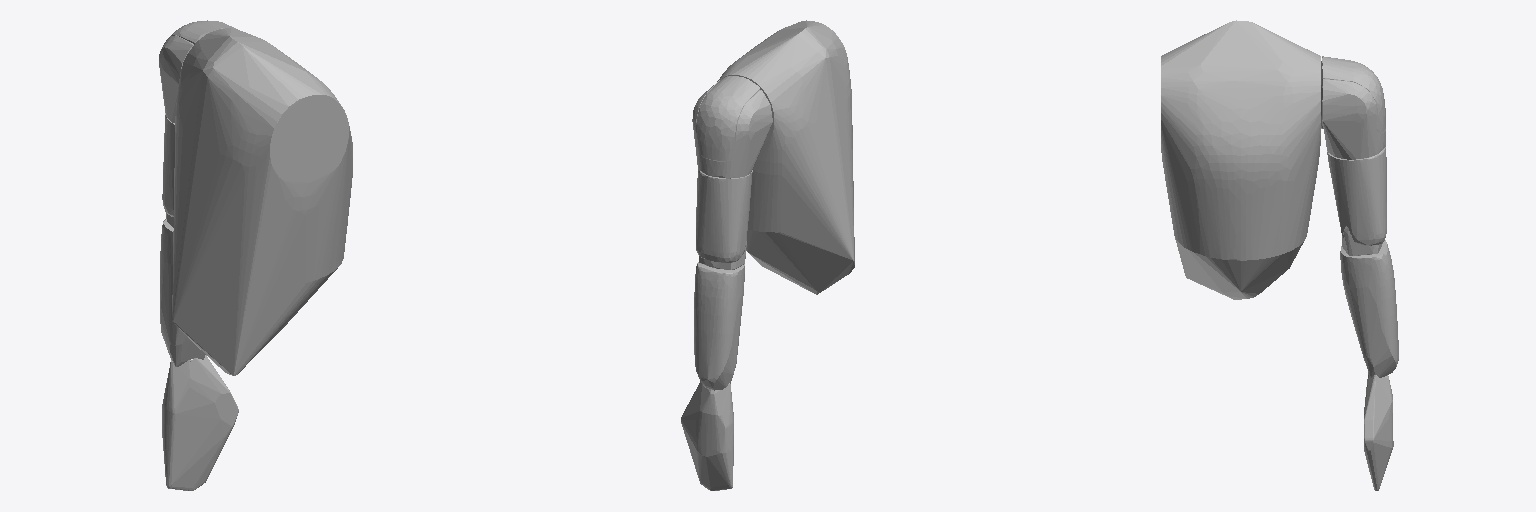
robot.urdf — P5_left_arm:
<?xml version="1.0" encoding="utf-8"?>
<!-- This URDF was automatically created by SolidWorks to URDF Exporter! Originally created by [author] ([email redacted]) 
     Commit Version: 1.6.0-4-g7f85cfe  Build Version: 1.6.7995.38578
     For more information, please see http://wiki.ros.org/sw_urdf_exporter -->
<robot name="P5_left_arm">
  <link
    name="link_wy">
    <inertial>
      <!--连杆质心相对于连杆坐标系下的位置-->
      <origin                                    
        xyz="-0.014502 -0.0015171 0.24091"
        rpy="0 0 0" />
      <mass
        value="15.996" />
      <inertia
        ixx="0.22953"
        ixy="-0.00061036"
        ixz="0.0056717"
        iyy="0.18298"
        iyz="-0.0013464"
        izz="0.11524" />
    </inertial>
    <visual>
      <origin
        xyz="0 0 0"
        rpy="0 0 0" />
      <geometry>
        <mesh
          filename="../meshes/link_wy.STL" />
      </geometry>
      <material
        name="">
        <color
          rgba="0.75294 0.75294 0.75294 1" />
      </material>
    </visual>
    <collision>
      <origin
        xyz="0 0 0"
        rpy="0 0 0" />
      <geometry>
        <mesh
          filename="../meshes/link_wy.STL" />
      </geometry>
    </collision>
  </link>

  <link
    name="link_la1">
    <inertial>
      <origin
        xyz="-0.0017427 -0.0032911 -0.00048706"
        rpy="0 0 0" />
      <mass
        value="1.5214" />
      <inertia
        ixx="0.0020202"
        ixy="1.53E-06"
        ixz="-8E-08"
        iyy="0.0020419"
        iyz="2.22E-05"
        izz="0.0021238" />
    </inertial>
    <visual>
      <origin
        xyz="0 0 0"
        rpy="0 0 0" />
      <geometry>
        <mesh
          filename="../meshes/link_la1.STL" />
      </geometry>
      <material
        name="">
        <color
          rgba="0.75294 0.75294 0.75294 1" />
      </material>
    </visual>
    <collision>
      <origin
        xyz="0 0 0"
        rpy="0 0 0" />
      <geometry>
        <mesh
          filename="../meshes/link_la1.STL" />
      </geometry>
    </collision>
  </link>
  <joint
    name="joint_la1"
    type="revolute">
    <origin
      xyz="-0.0079 0.19799 0.346"
      rpy="0 0 0" />
    <parent
      link="link_wy" />
    <child
      link="link_la1" />
    <axis
      xyz="0 1 0" />
    <limit
      lower="-2.7576"
      upper="2.7576"
      effort="0"
      velocity="0" />
  </joint>
  <link
    name="link_la2">
    <inertial>
      <origin
        xyz="-0.002658 0.006084 -0.044177"
        rpy="0 0 0" />
      <mass
        value="0.59342" />
      <inertia
        ixx="0.0019946"
        ixy="-1.05E-05"
        ixz="5.194E-05"
        iyy="0.0027114"
        iyz="0.000263"
        izz="0.0017907" />
    </inertial>
    <visual>
      <origin
        xyz="0 0 0"
        rpy="0 0 0" />
      <geometry>
        <mesh
          filename="../meshes/link_la2.STL" />
      </geometry>
      <material
        name="">
        <color
          rgba="0.75294 0.75294 0.75294 1" />
      </material>
    </visual>
    <collision>
      <origin
        xyz="0 0 0"
        rpy="0 0 0" />
      <geometry>
        <mesh
          filename="../meshes/link_la2.STL" />
      </geometry>
    </collision>
  </link>
  <joint
    name="joint_la2"
    type="revolute">
    <origin
      xyz="0 0 0"
      rpy="0 0 0" />
    <parent
      link="link_la1" />
    <child
      link="link_la2" />
    <axis
      xyz="1 0 0" />
    <limit
      lower="-0.2618"
      upper="2.8798"
      effort="0"
      velocity="0" />
  </joint>
  <link
    name="link_la3">
    <inertial>
      <origin
        xyz="-0.0043043 -0.00056853 -0.086242"
        rpy="0 0 0" />
      <mass
        value="1.8035" />
      <inertia
        ixx="0.008233"
        ixy="3.217E-05"
        ixz="-0.00050344"
        iyy="0.0082866"
        iyz="-0.0001859"
        izz="0.0017181" />
    </inertial>
    <visual>
      <origin
        xyz="0 0 0"
        rpy="0 0 0" />
      <geometry>
        <mesh
          filename="../meshes/link_la3.STL" />
      </geometry>
      <material
        name="">
        <color
          rgba="0.75294 0.75294 0.75294 1" />
      </material>
    </visual>
    <collision>
      <origin
        xyz="0 0 0"
        rpy="0 0 0" />
      <geometry>
        <mesh
          filename="../meshes/link_la3.STL" />
      </geometry>
    </collision>
  </link>
  <joint
    name="joint_la3"
    type="revolute">
    <origin
      xyz="-5.6644E-05 0.015599 -0.10454"
      rpy="0.087272 0 0" />
    <parent
      link="link_la2" />
    <child
      link="link_la3" />
    <axis
      xyz="0 0 1" />
    <limit
      lower="-2.618"
      upper="2.618"
      effort="0"
      velocity="0" />
  </joint>
  <link
    name="link_la4">
    <inertial>
      <origin
        xyz="-0.0037512 0.00059846 -0.022713"
        rpy="0 0 0" />
      <mass
        value="0.19646" />
      <inertia
        ixx="0.00014929"
        ixy="-5.55E-06"
        ixz="2.026E-05"
        iyy="0.0002863"
        iyz="-1.87E-06"
        izz="0.00023341" />
    </inertial>
    <visual>
      <origin
        xyz="0 0 0"
        rpy="0 0 0" />
      <geometry>
        <mesh
          filename="../meshes/link_la4.STL" />
      </geometry>
      <material
        name="">
        <color
          rgba="0.75294 0.75294 0.75294 1" />
      </material>
    </visual>
    <collision>
      <origin
        xyz="0 0 0"
        rpy="0 0 0" />
      <geometry>
        <mesh
          filename="../meshes/link_la4.STL" />
      </geometry>
    </collision>
  </link>
  <joint
    name="joint_la4"
    type="revolute">
    <origin
      xyz="-0.00075212 -0.0049993 -0.154"
      rpy="0 -1.4664E-05 -0.00087622" />
    <parent
      link="link_la3" />
    <child
      link="link_la4" />
    <axis
      xyz="1 0 0" />
    <limit
      lower="-2.2166"
      upper="0.1745"
      effort="0"
      velocity="0" />
  </joint>
  <link
    name="link_la5">
    <inertial>
      <origin
        xyz="8.05E-05 0.00037564 -0.15082"
        rpy="0 0 0" />
      <mass
        value="2.0103" />
      <inertia
        ixx="0.013613"
        ixy="2.4E-07"
        ixz="-1.157E-05"
        iyy="0.013825"
        iyz="0.00019251"
        izz="0.0018716" />
    </inertial>
    <visual>
      <origin
        xyz="0 0 0"
        rpy="0 0 0" />
      <geometry>
        <mesh
          filename="../meshes/link_la5.STL" />
      </geometry>
      <material
        name="">
        <color
          rgba="0.75294 0.75294 0.75294 1" />
      </material>
    </visual>
    <collision>
      <origin
        xyz="0 0 0"
        rpy="0 0 0" />
      <geometry>
        <mesh
          filename="../meshes/link_la5.STL" />
      </geometry>
    </collision>
  </link>
  <joint
    name="joint_la5"
    type="revolute">
    <origin
      xyz="0 0 0"
      rpy="0 0 0" />
    <parent
      link="link_la4" />
    <child
      link="link_la5" />
    <axis
      xyz="0 0 1" />
    <limit
      lower="-2.9147"
      upper="2.9147"
      effort="0"
      velocity="0" />
  </joint>
  <link
    name="link_la6">
    <inertial>
      <origin
        xyz="0 -0.010485 -1.3192E-05"
        rpy="0 0 0" />
      <mass
        value="0.0077626" />
      <inertia
        ixx="8.9E-07"
        ixy="0"
        ixz="0"
        iyy="1.4E-07"
        iyz="0"
        izz="9.3E-07" />
    </inertial>
    <visual>
      <origin
        xyz="0 0 0"
        rpy="0 0 0" />
      <geometry>
        <mesh
          filename="../meshes/link_la6.STL" />
      </geometry>
      <material
        name="">
        <color
          rgba="0.89804 0.91765 0.92941 1" />
      </material>
    </visual>
    <collision>
      <origin
        xyz="0 0 0"
        rpy="0 0 0" />
      <geometry>
        <mesh
          filename="../meshes/link_la6.STL" />
      </geometry>
    </collision>
  </link>
  <joint
    name="joint_la6"
    type="revolute">
    <origin
      xyz="0 0.02371 -0.29585"
      rpy="0.045412 0 0" />
    <parent
      link="link_la5" />
    <child
      link="link_la6" />
    <axis
      xyz="1 0 0" />
    <limit
      lower="-0.9948"
      upper="0.9948"
      effort="0"
      velocity="0" />
  </joint>
  <link
    name="link_la7">
    <inertial>
      <origin
        xyz="0.0083132 -0.033889 -0.09968"
        rpy="0 0 0" />
      <mass
        value="0.71188" />
      <inertia
        ixx="0.0024842"
        ixy="9.201E-05"
        ixz="6.102E-05"
        iyy="0.0029165"
        iyz="-0.00026204"
        izz="0.00065895" />
    </inertial>
    <visual>
      <origin
        xyz="0 0 0"
        rpy="0 0 0" />
      <geometry>
        <mesh
          filename="../meshes/link_la7.STL" />
      </geometry>
      <material
        name="">
        <color
          rgba="0.75294 0.75294 0.75294 1" />
      </material>
    </visual>
    <collision>
      <origin
        xyz="0 0 0"
        rpy="0 0 0" />
      <geometry>
        <mesh
          filename="../meshes/link_la7.STL" />
      </geometry>
    </collision>
  </link>
  <joint
    name="joint_la7"
    type="revolute">
    <origin
      xyz="0 0 0"
      rpy="0 0 0" />
    <parent
      link="link_la6" />
    <child
      link="link_la7" />
    <axis
      xyz="0 1 0" />
    <limit
      lower="-0.857"
      upper="1.2036"
      effort="0"
      velocity="0" />
  </joint>

  <link name="FT_link">
    <inertial>
      <mass value="0"/>
      <origin rpy="0 0 0" xyz="0 0 0"/>
      <inertia ixx="0" ixy="0" ixz="0" iyy="0" iyz="0" izz="0"/>
    </inertial>
    <collision>
      <geometry>
        <box size="0.01 0.01 0.01"/>
      </geometry>
      <origin rpy="0 0 0" xyz="-0.01 0 0"/>
    </collision>
  </link>

  <joint
    name="FT_sensor"
    type="fixed">
    <origin
      xyz="0 0 -0.008"
      rpy="0 0 0" />
    <parent
      link="link_la7" />
    <child
      link="FT_link" />
  </joint>
</robot>

--- Render facts (derived) ---
Views: 3 orthographic renders of the robot side by side, from view 1: azimuth 30°, elevation 25°; view 2: azimuth 150°, elevation 25°; view 3: azimuth 270°, elevation 25°.
Model P5_left_arm with 9 links and 8 joints (7 revolute, 1 fixed), rooted at link_wy, posed all joints at 0.
Visible links, largest first — view 1: link_wy, link_la7, link_la5, link_la2, link_la3, link_la1; view 2: link_wy, link_la5, link_la7, link_la3, link_la1, link_la2; view 3: link_wy, link_la5, link_la3, link_la2, link_la7, link_la1.
Link boxes in pixels (<box>): link_wy: <box>172,28,352,375</box>; link_la7: <box>162,355,238,490</box>; link_la5: <box>160,219,205,366</box>; link_la2: <box>159,26,235,122</box>; link_la3: <box>162,113,174,216</box>; link_la1: <box>171,20,234,44</box>; link_wy: <box>717,20,854,294</box>; link_la5: <box>694,262,744,390</box>; link_la7: <box>681,381,733,490</box>; link_la3: <box>696,170,752,262</box>; link_la1: <box>696,76,759,160</box>; link_la2: <box>692,80,772,178</box>; link_wy: <box>1161,20,1320,299</box>; link_la5: <box>1340,240,1398,377</box>; link_la3: <box>1327,147,1386,245</box>; link_la2: <box>1322,79,1385,159</box>; link_la7: <box>1364,372,1393,490</box>; link_la1: <box>1321,56,1385,132</box>.
Bounding box of the posed robot: 0.311 × 0.4398 × 0.9259 m (x, y, z).
8 mesh visuals loaded from 8 distinct referenced files (8 binary STL).
